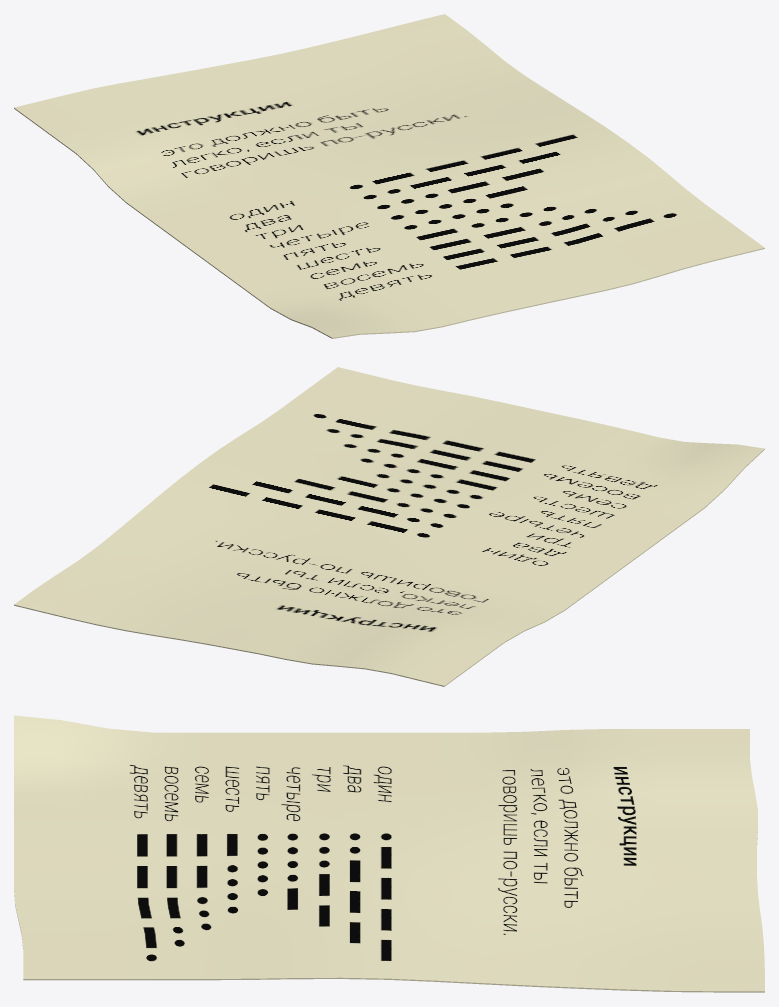
File: morse-code-instruction.fbx
3 renders of one model, top to bottom at view 1: azimuth 30°, elevation 25°; view 2: azimuth 150°, elevation 25°; view 3: azimuth 270°, elevation 25°, orthographic. The views are drawn at different scales.
Visible parts, largest first — view 1: Plane.001; view 2: Plane.001; view 3: Plane.001.
Part boxes in pixels (bbox=[...]): Plane.001: bbox=[14, 14, 764, 338]; Plane.001: bbox=[14, 367, 764, 686]; Plane.001: bbox=[14, 715, 764, 992].
Size of the model in its own units: 10.17 by 0.6158 by 13.15.
Materials: 1 (1 with a texture image).
